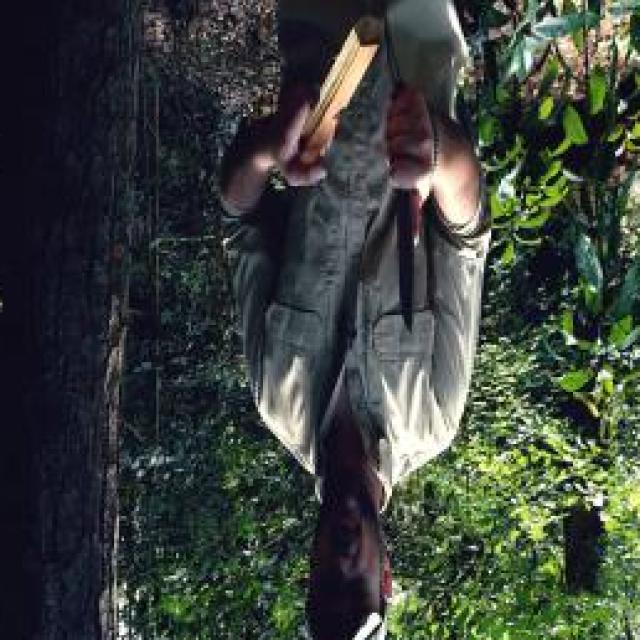knife: (382, 112, 429, 342)
